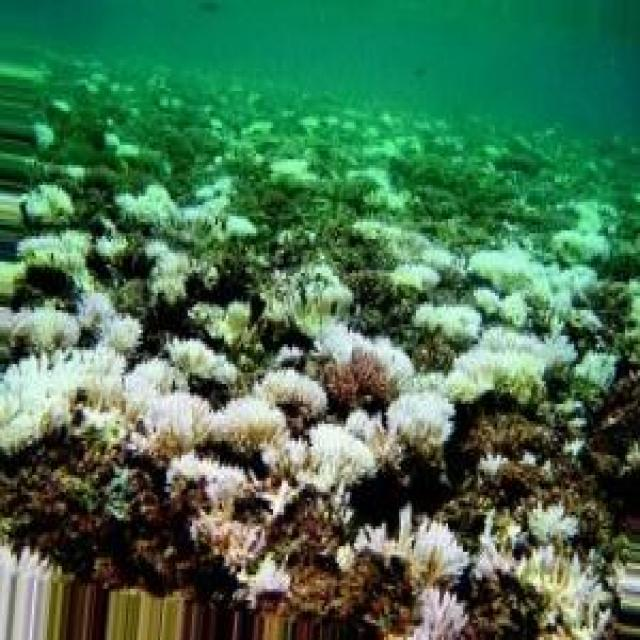bleached coral: (139, 131, 375, 222)
healthy coral: (0, 321, 181, 464), (474, 239, 614, 367), (339, 347, 457, 472), (393, 521, 471, 640)
